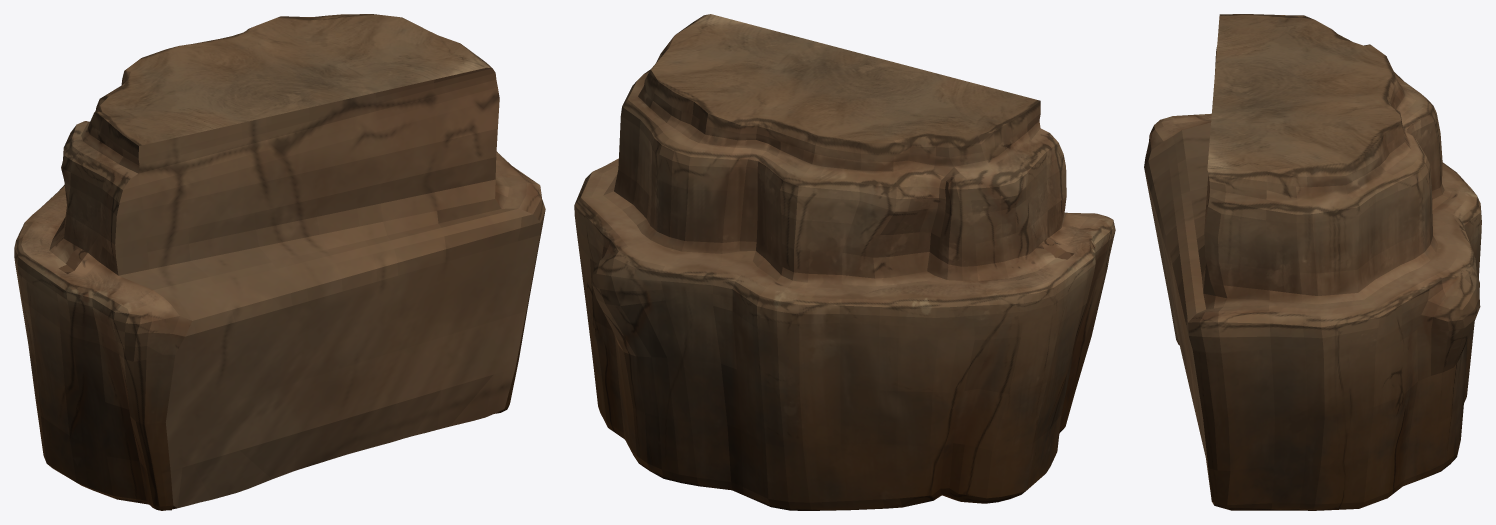
File: Diorama_Divin_Terrain 1.fbx
The picture shows the model from 3 angles, left to right: view 1: azimuth 30°, elevation 25°; view 2: azimuth 150°, elevation 25°; view 3: azimuth 270°, elevation 25°; orthographic projection. The views are drawn at different scales.
Parts seen in each view (by area): view 1: MontainCut; view 2: MontainCut; view 3: MontainCut.
Part boxes in pixels (bbox=[...]): MontainCut: bbox=[14, 14, 545, 510]; MontainCut: bbox=[574, 14, 1115, 510]; MontainCut: bbox=[1144, 14, 1481, 510].
Size of the model in its own units: 3308 by 2377 by 2192.
